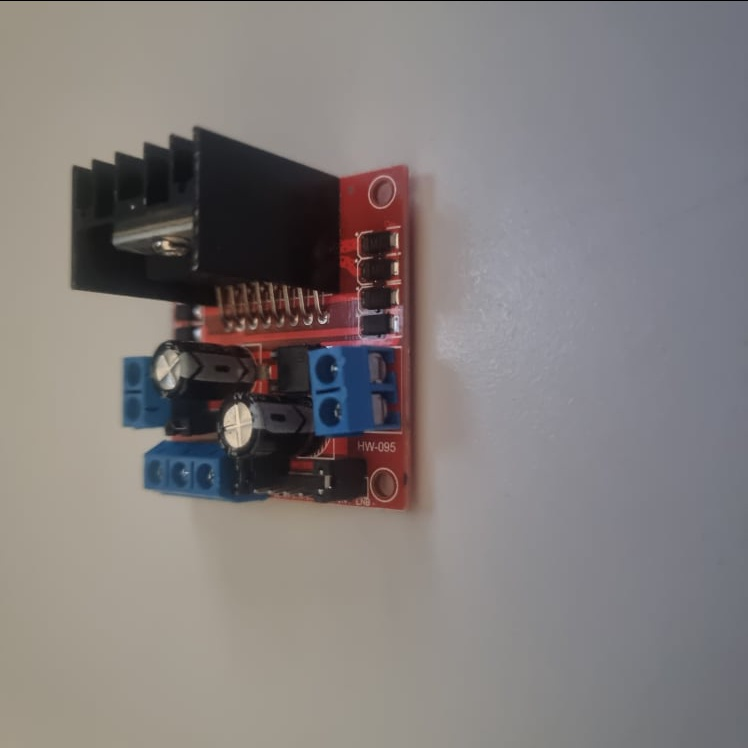MOTOR: (69, 125, 410, 507)
